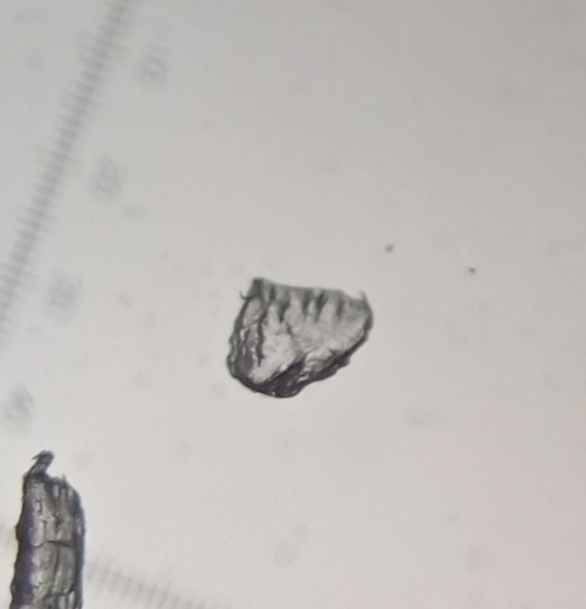microplastic: (221, 268, 382, 402), (13, 445, 98, 609)
